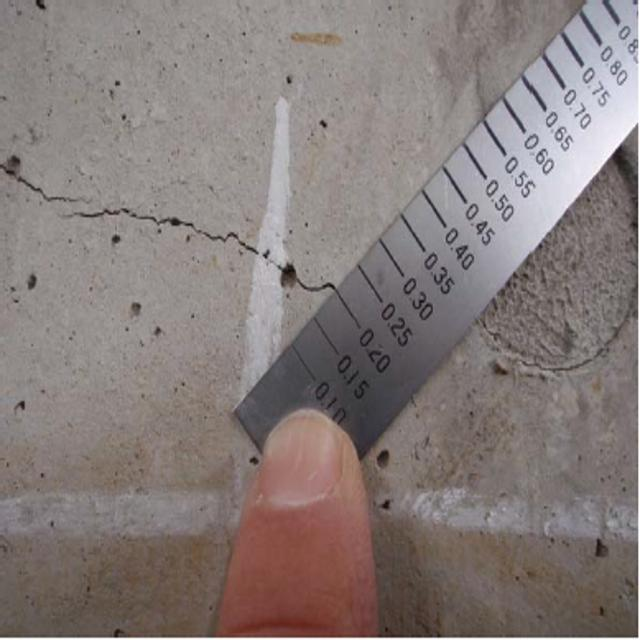crack: (7, 150, 347, 303)
